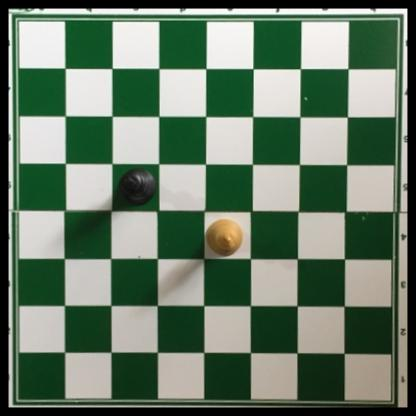black-king: (118, 164, 158, 207)
white-king: (205, 218, 244, 257)
